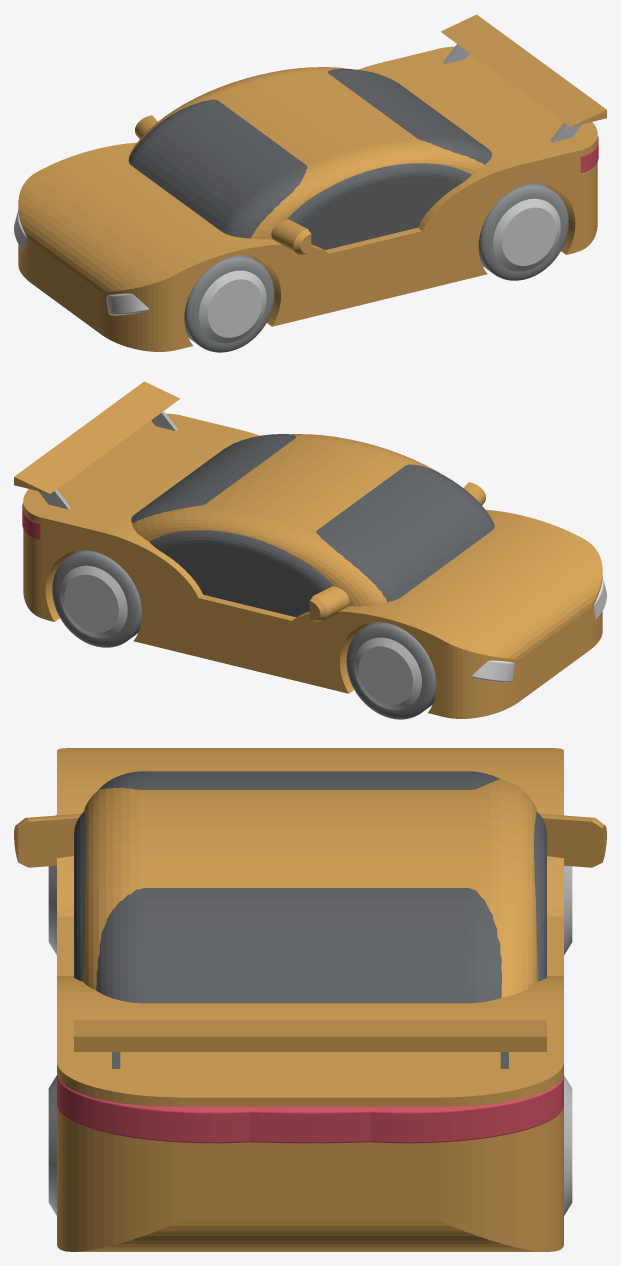
Rendered from SPORTS CAR.glb.
The picture shows the model from 3 angles, top to bottom: view 1: azimuth 30°, elevation 25°; view 2: azimuth 150°, elevation 25°; view 3: azimuth 270°, elevation 25°; orthographic projection. The views are drawn at different scales.
Parts seen in each view (by area): view 1: Mesh_Mesh_head_geo.001_lambert2SG.001; view 2: Mesh_Mesh_head_geo.001_lambert2SG.001; view 3: Mesh_Mesh_head_geo.001_lambert2SG.001.
Boxes of the visible parts, <box> form: Mesh_Mesh_head_geo.001_lambert2SG.001: <box>14,14,606,352</box>; Mesh_Mesh_head_geo.001_lambert2SG.001: <box>14,381,606,719</box>; Mesh_Mesh_head_geo.001_lambert2SG.001: <box>14,748,606,1251</box>.
Size of the model in its own units: 121 by 36 by 70.2.
